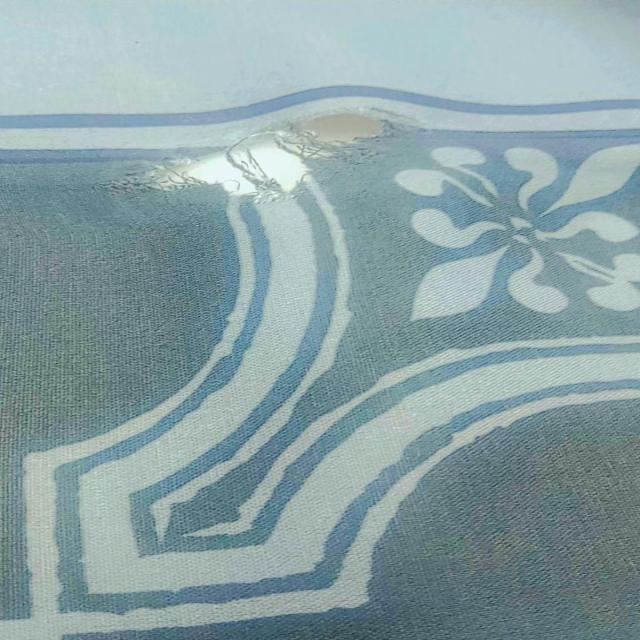cut: (108, 104, 410, 204)
